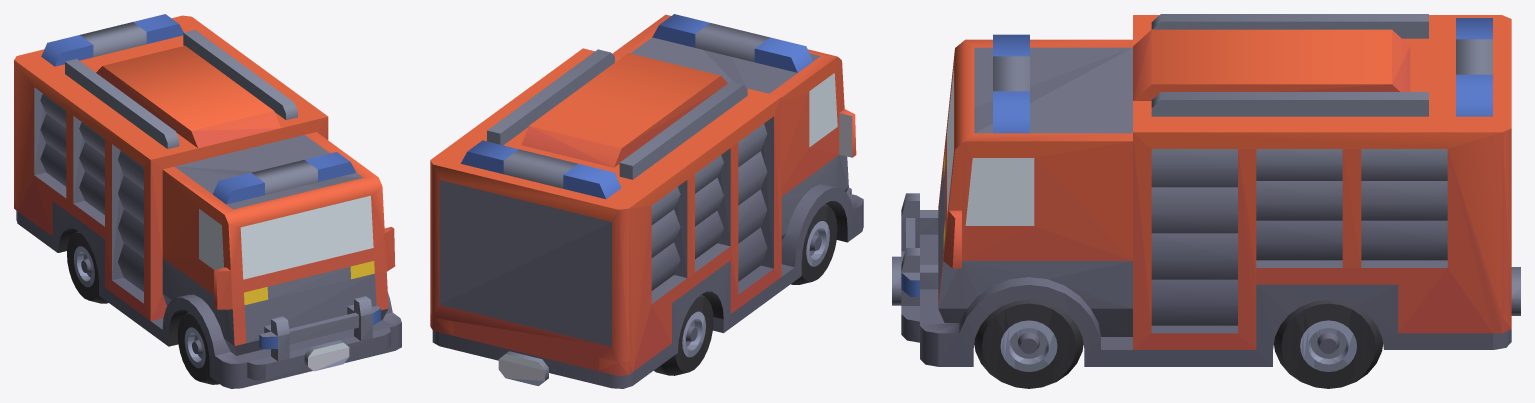
The picture shows the model from 3 angles, left to right: view 1: azimuth 30°, elevation 25°; view 2: azimuth 150°, elevation 25°; view 3: azimuth 270°, elevation 25°; orthographic projection. The views are drawn at different scales.
Parts seen in each view (by area): view 1: Scene, grill, wheel-front-right, wheel-back-right; view 2: Scene, wheel-back-right, wheel-front-right; view 3: Scene, wheel-front-left, wheel-back-left, grill.
Part boxes in pixels (x1,y1,x2,y2): Scene: (14,14,401,388); grill: (247,296,390,380); wheel-front-right: (177,312,219,384); wheel-back-right: (67,230,108,303); Scene: (430,14,863,388); wheel-back-right: (654,294,713,375); wheel-front-right: (791,203,837,284); Scene: (920,14,1520,366); wheel-front-left: (974,300,1083,388); wheel-back-left: (1274,300,1382,388); grill: (892,193,938,342).
Bounding box in the file's own units: 2.65 × 3 × 6.
